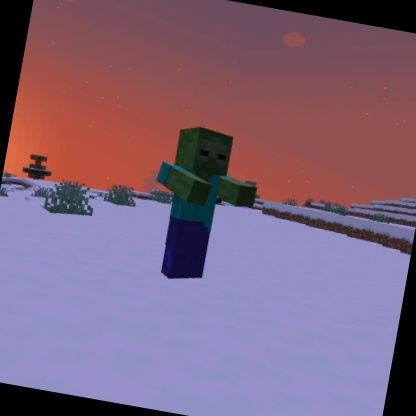zombie: (134, 117, 270, 297)
